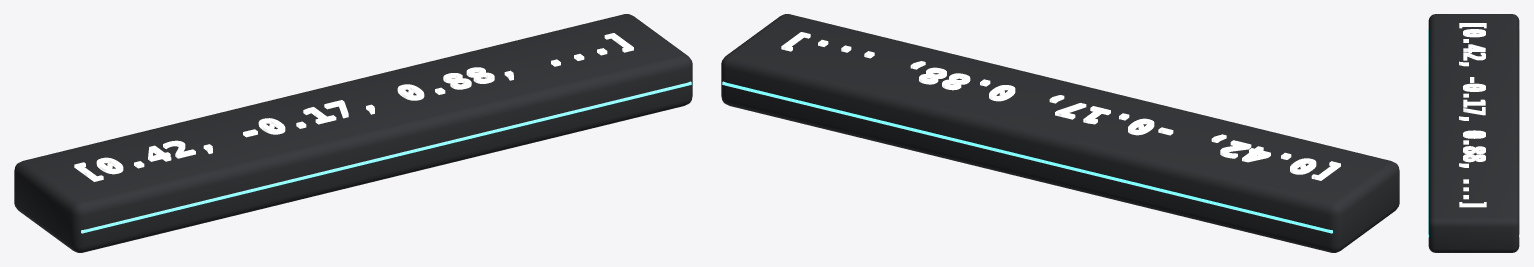
File: embedding.glb
3 views of the same model, side by side, from view 1: azimuth 30°, elevation 25°; view 2: azimuth 150°, elevation 25°; view 3: azimuth 270°, elevation 25° (orthographic). The views are drawn at different scales.
Visible parts, largest first — view 1: Block, TopText, Seam; view 2: Block, TopText, Seam; view 3: Block, TopText, Seam.
Part boxes in pixels (x1=…): Block: x1=14, y1=14, x2=692, y2=252; TopText: x1=74, y1=33, x2=633, y2=181; Seam: x1=81, y1=81, x2=691, y2=233; Block: x1=721, y1=14, x2=1399, y2=252; TopText: x1=781, y1=32, x2=1340, y2=180; Seam: x1=722, y1=81, x2=1332, y2=233; Block: x1=1428, y1=14, x2=1519, y2=252; TopText: x1=1459, y1=23, x2=1486, y2=207; Seam: x1=1428, y1=29, x2=1519, y2=237.
Size of the model in its own units: 3.37 by 0.292 by 0.626.
